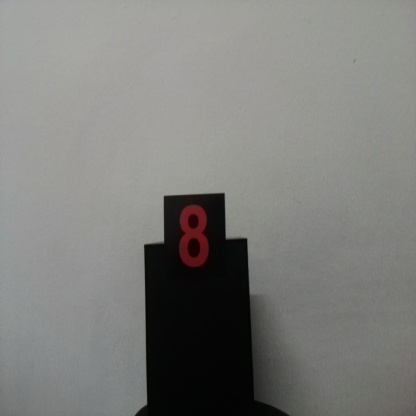id_8: (163, 196, 226, 292)
